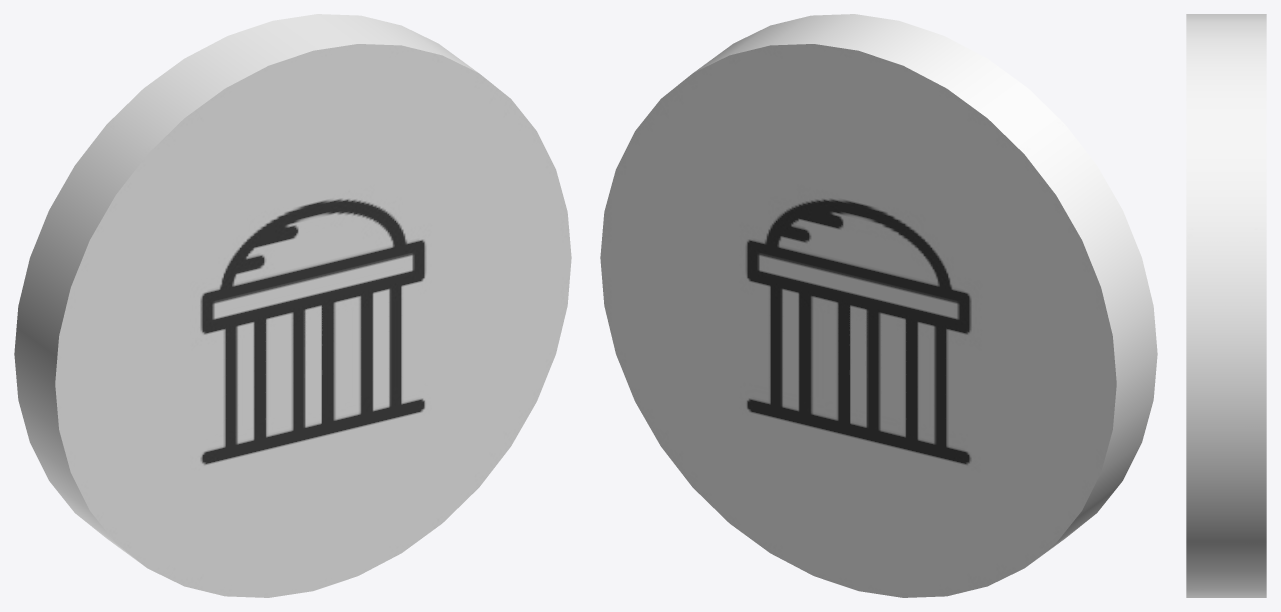
File: museum_district.glb
The picture shows the model from 3 angles, left to right: view 1: azimuth 30°, elevation 25°; view 2: azimuth 150°, elevation 25°; view 3: azimuth 270°, elevation 25°; orthographic projection.
Parts seen in each view (by area): view 1: MD_Anim; view 2: MD_Anim; view 3: MD_Anim.
Part boxes in pixels (box(x1,y1,x2,y2)): MD_Anim: box(14, 14, 571, 597); MD_Anim: box(600, 14, 1157, 597); MD_Anim: box(1186, 14, 1266, 597).
Size of what is drawn, in the model's own units: 1.9 by 1.9 by 0.2605.
1 material, 1 textured.
